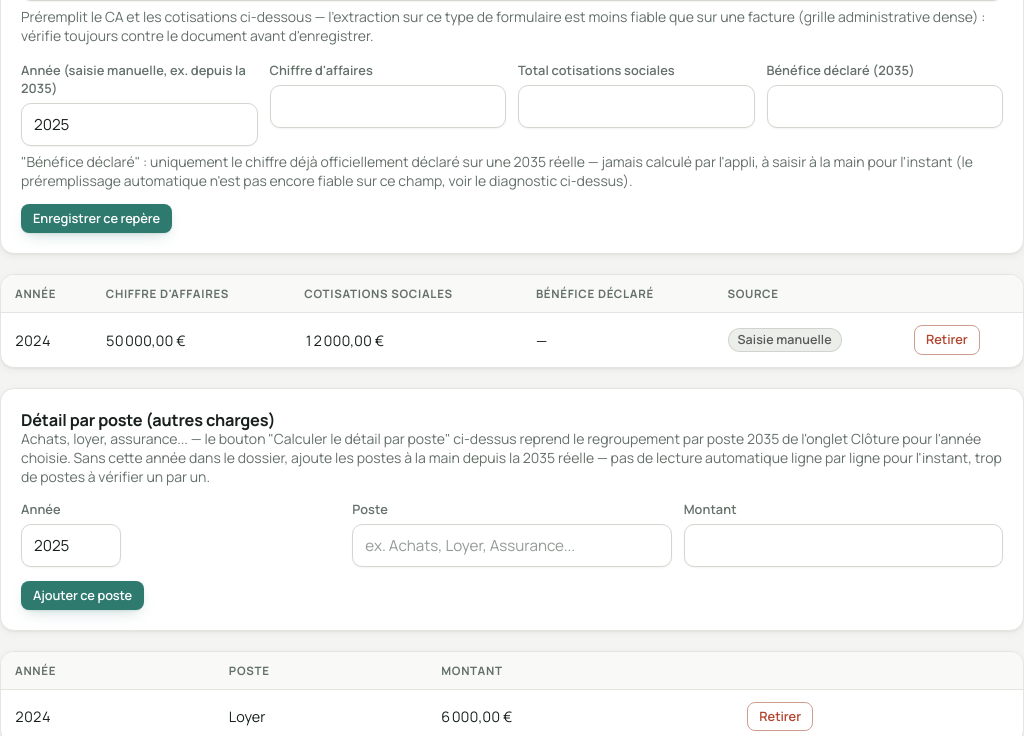
Scenario: EstimationTab — un retrait refusé se dit › un poste dont le retrait est refusé le dit, et reste
(page scrolled)
Click the button "Retirer" in the row of "6 000,00 €" at (780, 717), box 747,702 -> 813,731
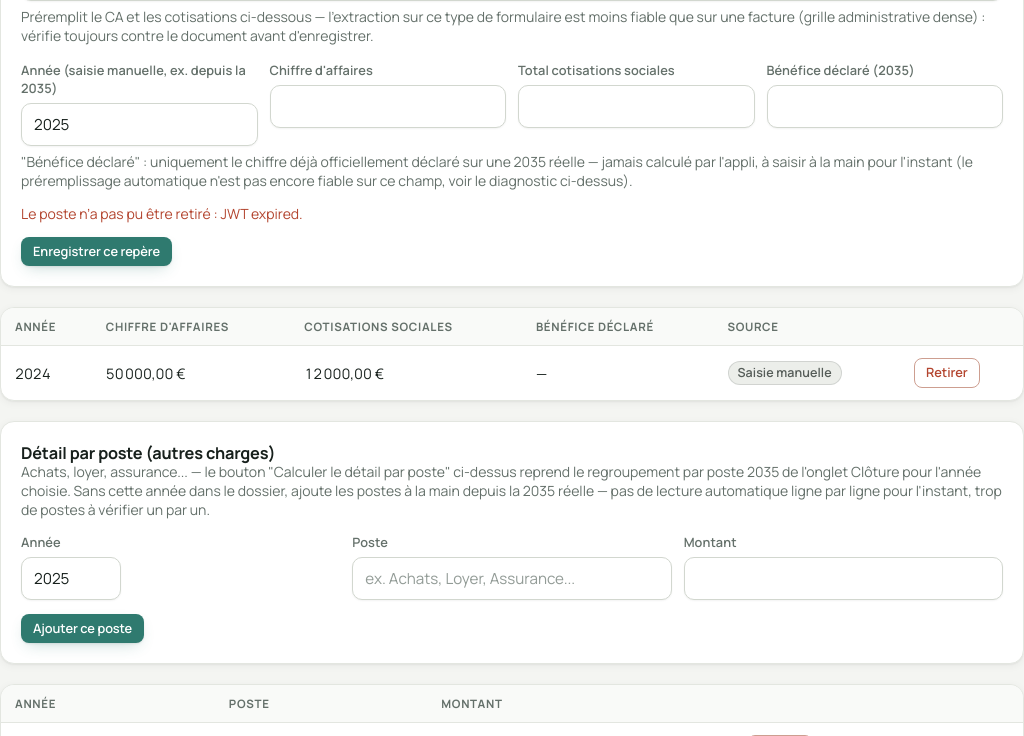
Check: the text "Le poste n’a pas pu être retiré : JWT expired." is shown, box 21,204 -> 303,223
